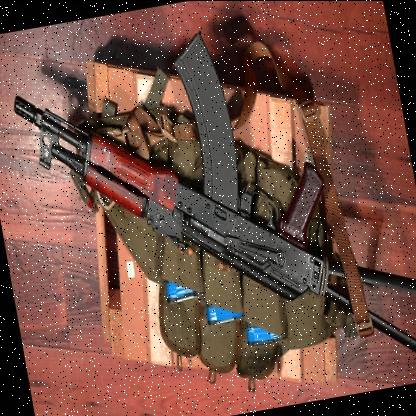rifle: (11, 8, 416, 416)
